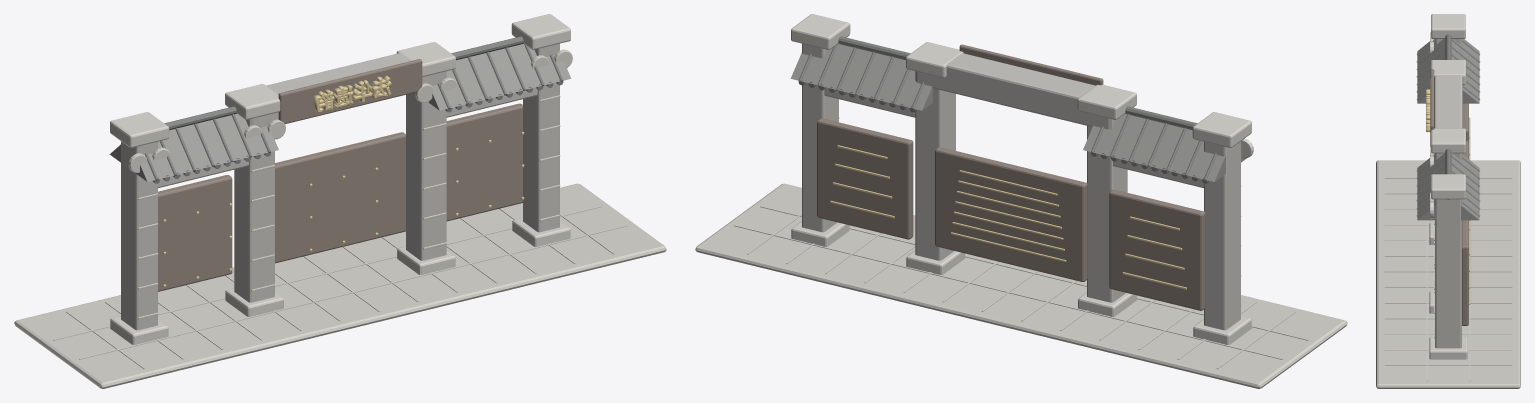
Rendered from fahua-heritage.glb.
3 views of the same model, side by side, from view 1: azimuth 30°, elevation 25°; view 2: azimuth 150°, elevation 25°; view 3: azimuth 270°, elevation 25° (orthographic). The views are drawn at different scales.
Parts seen in each view (by area): view 1: fahua-heritage; view 2: fahua-heritage; view 3: fahua-heritage.
Part boxes in pixels (box(x1,y1,x2,y2)): fahua-heritage: box(14, 14, 666, 388); fahua-heritage: box(695, 14, 1347, 388); fahua-heritage: box(1376, 14, 1520, 388).
Bounding box in the file's own units: 15.5 × 5.76 × 4.2.
